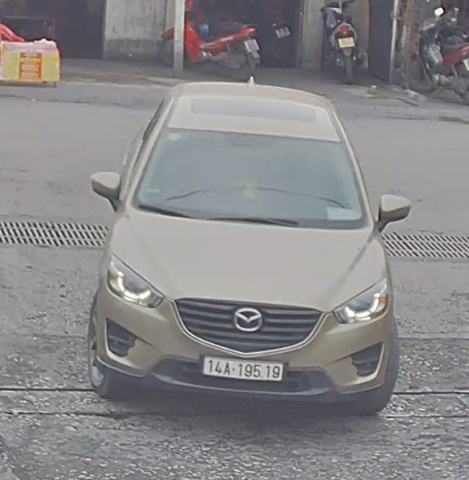vehicle plate: (197, 348, 288, 387)
